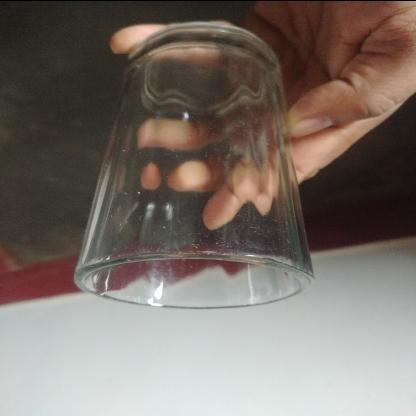cup: (150, 157, 416, 345)
